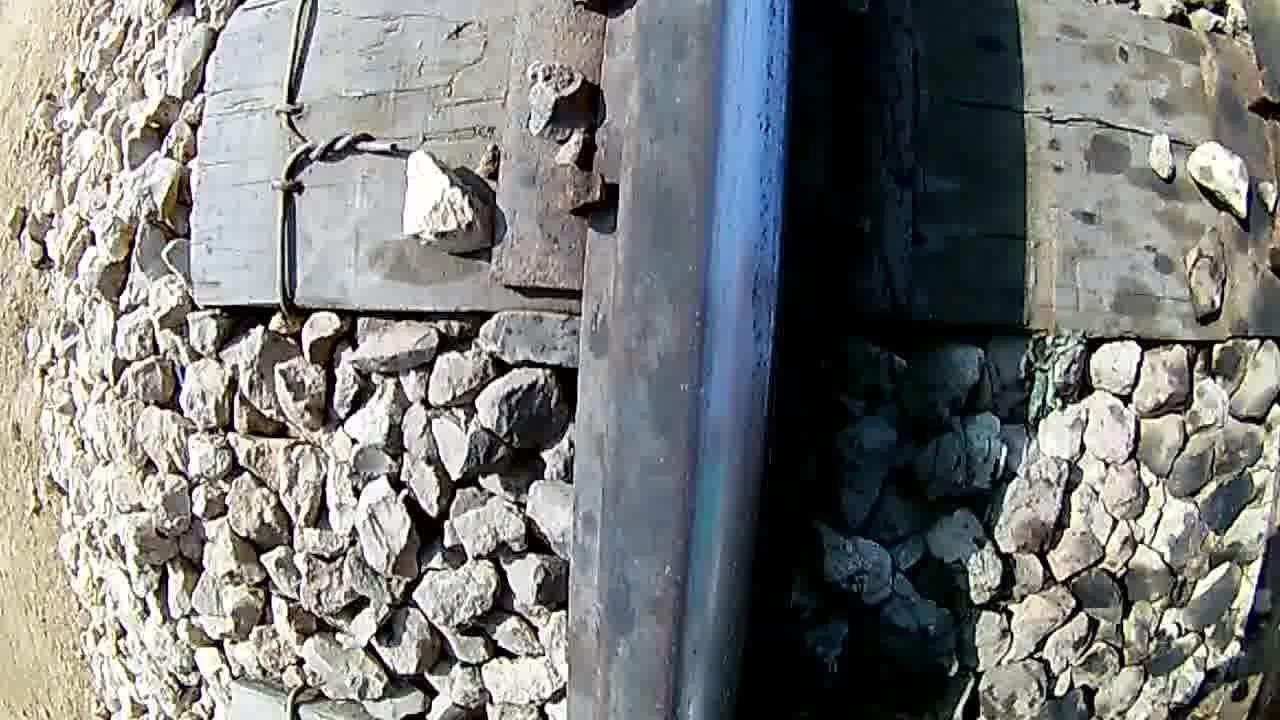crack: (622, 0, 792, 703)
